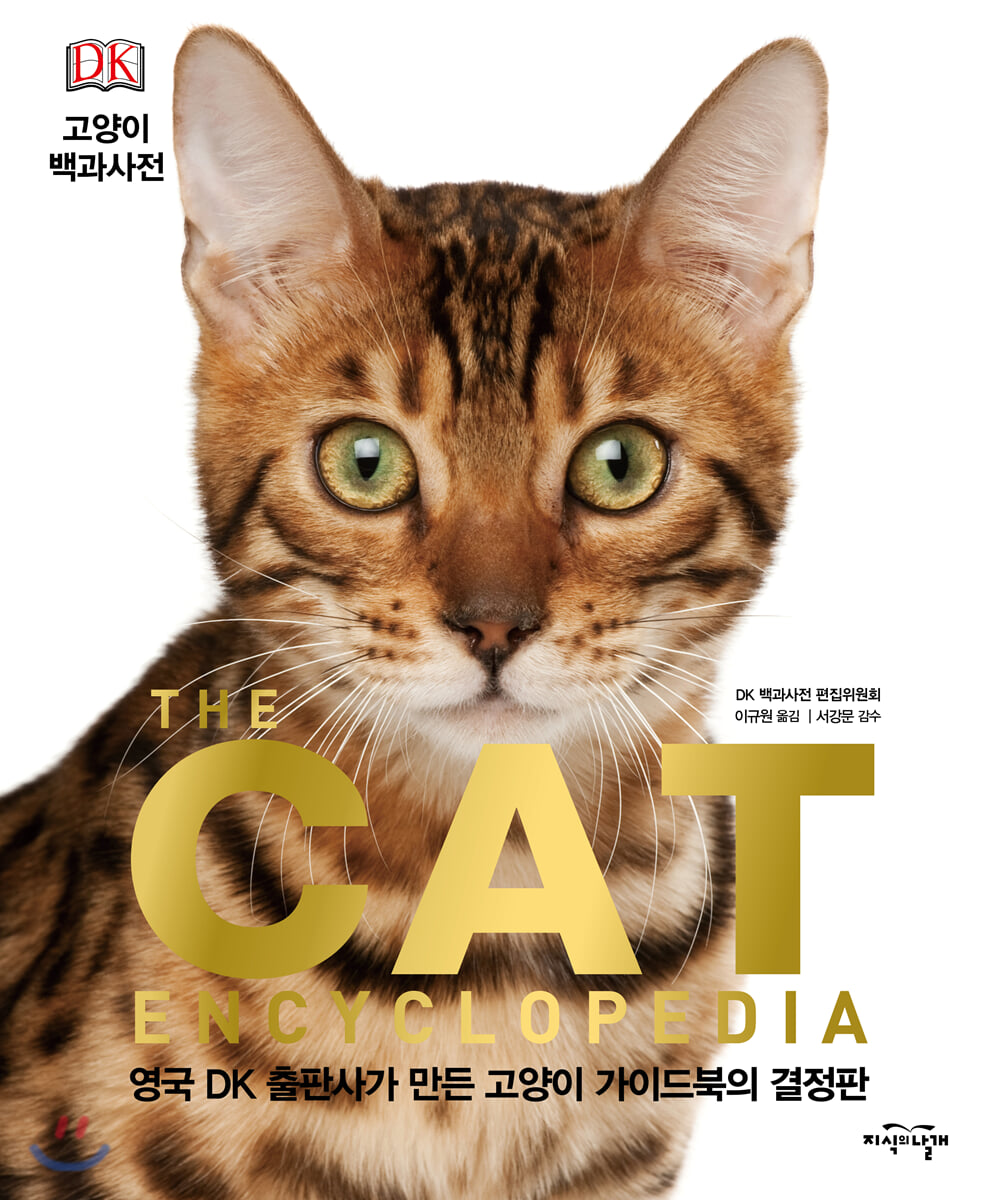cat: (11, 25, 847, 1200)
cat-face: (140, 8, 856, 756)
